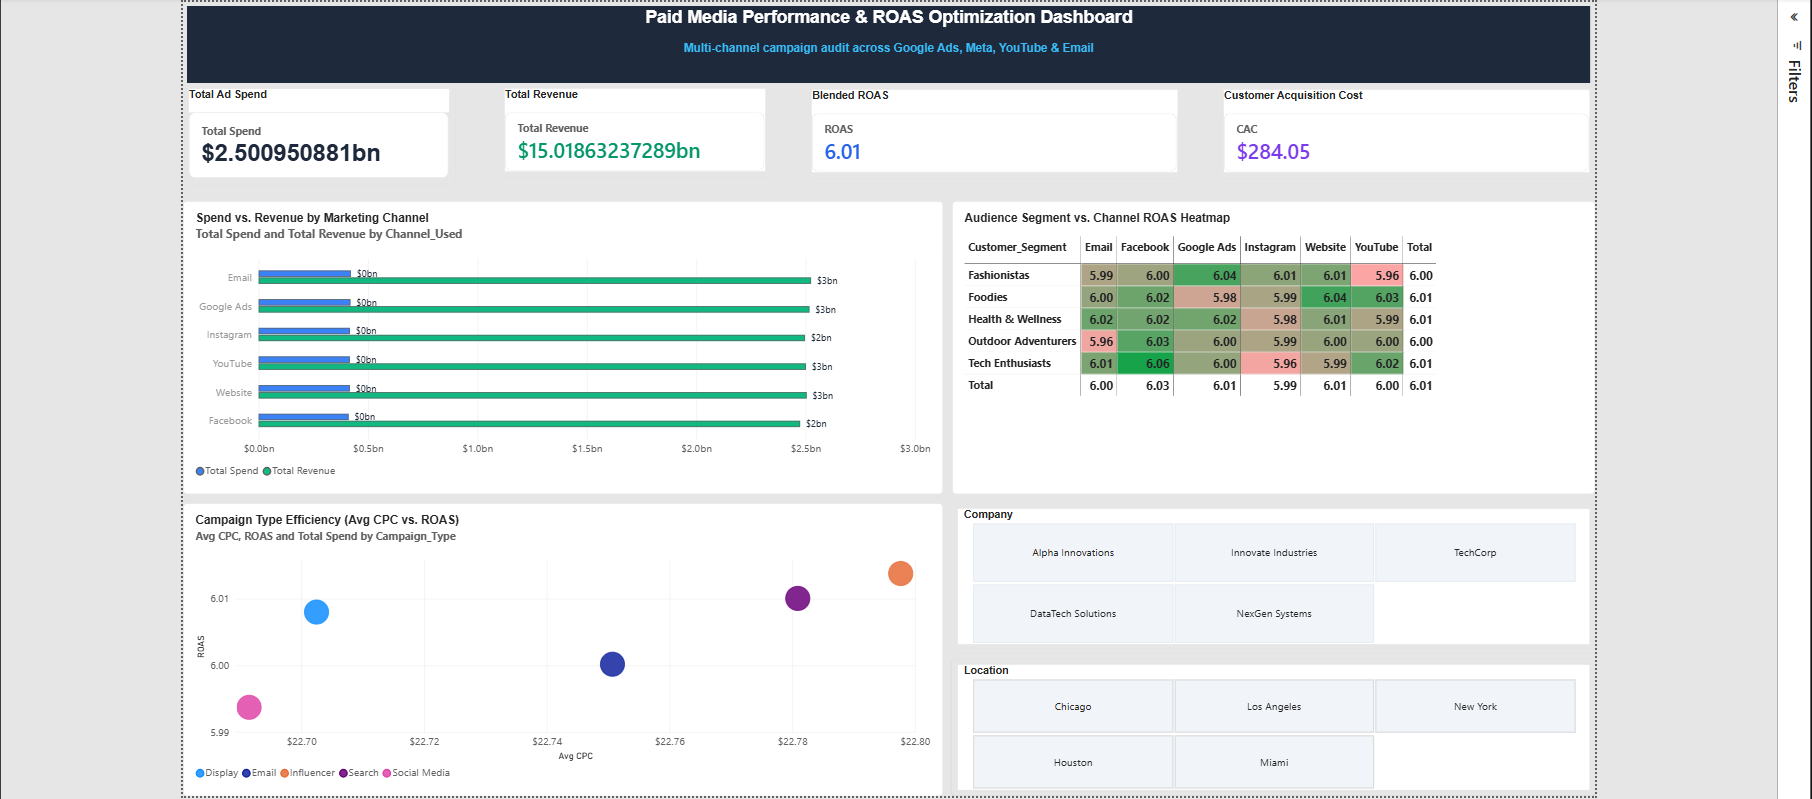

The page's visual inventory and layout, read from the dashboard file:
{"tool":"powerbi","page":{"name":"Page 1","canvas":[1920,1080],"ordinal":0},"visuals":[{"type":"textbox","box":[0,0,1920,116.1],"z":0},{"type":"cardVisual","title":"Total Ad Spend","fields":{"Data":["marketing_campaign_dataset.Total Spend"]},"box":[0,110.1,370,137.4],"z":1000},{"type":"cardVisual","title":"Total Revenue","fields":{"Data":["marketing_campaign_dataset.Total Revenue"]},"box":[429.9,110.1,370,127.9],"z":2000},{"type":"cardVisual","title":"Blended ROAS","fields":{"Data":["marketing_campaign_dataset.ROAS"]},"box":[847.4,111.5,512.8,127.9],"z":3000},{"type":"cardVisual","title":"Customer Acquisition Cost","fields":{"Data":["marketing_campaign_dataset.CAC"]},"box":[1407.8,111.5,512.8,127.9],"z":4000},{"type":"clusteredBarChart","title":"Spend vs. Revenue by Marketing Channel","fields":{"Category":["marketing_campaign_dataset.Channel_Used"],"Y":["marketing_campaign_dataset.Total Spend","marketing_campaign_dataset.Total Revenue"]},"box":[0,270.7,1033.8,398.5],"z":5000},{"type":"scatterChart","title":"Campaign Type Efficiency (Avg CPC vs. ROAS)","fields":{"Series":["marketing_campaign_dataset.Campaign_Type"],"Size":["marketing_campaign_dataset.Total Spend"],"X":["marketing_campaign_dataset.Avg CPC"],"Y":["marketing_campaign_dataset.ROAS"]},"box":[0,681.5,1033.8,398.5],"z":6000},{"type":"pivotTable","title":"Audience Segment vs. Channel ROAS Heatmap","fields":{"Columns":["marketing_campaign_dataset.Channel_Used"],"Rows":["marketing_campaign_dataset.Customer_Segment"],"Values":["marketing_campaign_dataset.ROAS"]},"box":[1046,270.7,874.6,398.5],"z":7000},{"type":"slicer","fields":{"Values":["marketing_campaign_dataset.Company"]},"box":[1046,681.5,874.6,199.9],"z":7001},{"type":"slicer","fields":{"Values":["marketing_campaign_dataset.Location"]},"box":[1046,893.7,874.6,186.3],"z":7002}]}

Visuals, with their boxes on the page's 1920x1080 design canvas (x1, y1, x2, y2). These are canvas units, not pixel positions in the 1812x799 screenshot, which may show the page scaled, cropped or inside an application window:
textbox: crop(0, 0, 1920, 116)
"Total Ad Spend" cardVisual: crop(0, 110, 370, 248)
"Total Revenue" cardVisual: crop(430, 110, 800, 238)
"Blended ROAS" cardVisual: crop(847, 112, 1360, 239)
"Customer Acquisition Cost" cardVisual: crop(1408, 112, 1921, 239)
"Spend vs. Revenue by Marketing Channel" clusteredBarChart: crop(0, 271, 1034, 669)
"Campaign Type Efficiency (Avg CPC vs. ROAS)" scatterChart: crop(0, 682, 1034, 1080)
"Audience Segment vs. Channel ROAS Heatmap" pivotTable: crop(1046, 271, 1921, 669)
slicer - marketing_campaign_dataset.Company: crop(1046, 682, 1921, 881)
slicer - marketing_campaign_dataset.Location: crop(1046, 894, 1921, 1080)
